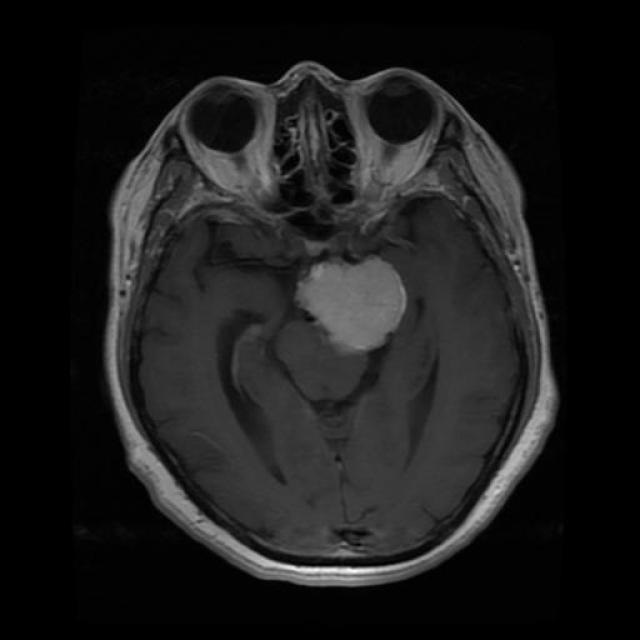meningioma: (296, 255, 408, 352)
